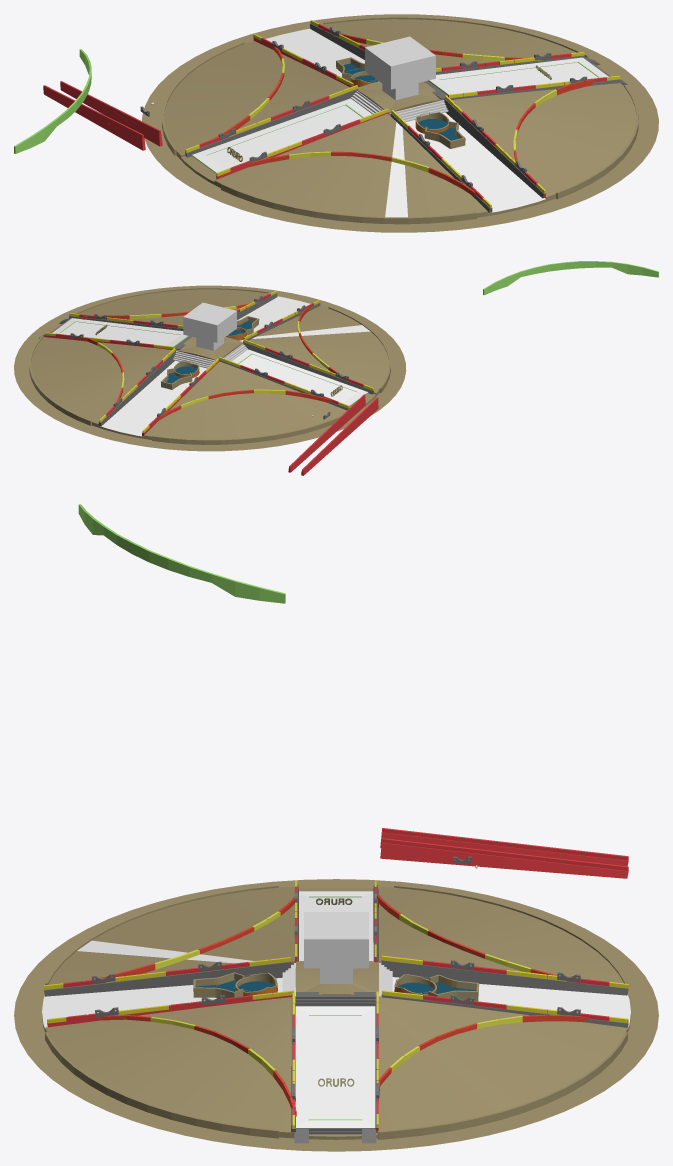
The model's file is plazaCasco.glb.
The picture shows the model from 3 angles, top to bottom: view 1: azimuth 30°, elevation 25°; view 2: azimuth 150°, elevation 25°; view 3: azimuth 270°, elevation 25°; orthographic projection. The views are drawn at different scales.
Parts seen in each view (by area): view 1: Cilindro, Cubo.018, Cubo.016, Cubo, Cubo.009, Cubo.002, Cubo.005, Cilindro.004, Cubo.006, Cilindro.002, Cubo.011, Cubo.007 (+11 smaller); view 2: Cilindro, Cubo.018, Cubo.016, Cubo, Cilindro.002, Cubo.007, Cubo.008, Cubo.006, Cubo.005, Cilindro.001, Cubo.009, Cubo.011 (+9 smaller); view 3: Cilindro, Cubo.016, Cubo, Cubo.006, Cubo.001, Cubo.010, Cilindro.002, Cubo.005, Cubo.008, Cubo.018, Cubo.002, Cilindro.006 (+5 smaller).
Part boxes in pixels (x1,y1,x2,y2): Cilindro: [142, 14, 658, 232]; Cubo.018: [192, 98, 371, 173]; Cubo.016: [428, 57, 608, 94]; Cubo: [365, 36, 435, 100]; Cubo.009: [185, 85, 357, 157]; Cubo.002: [444, 95, 545, 198]; Cubo.005: [43, 85, 145, 150]; Cilindro.004: [248, 151, 475, 197]; Cubo.006: [60, 81, 162, 146]; Cilindro.002: [14, 49, 91, 153]; Cubo.011: [448, 75, 620, 99]; Cubo.007: [216, 108, 388, 179]; Cilindro: [14, 285, 406, 451]; Cubo.018: [232, 349, 368, 406]; Cubo.016: [52, 318, 188, 346]; Cubo: [183, 302, 236, 350]; Cilindro.002: [483, 261, 658, 295]; Cubo.007: [243, 339, 374, 394]; Cubo.008: [98, 348, 175, 426]; Cubo.006: [288, 394, 365, 472]; Cubo.005: [301, 397, 378, 475]; Cilindro.001: [159, 389, 331, 420]; Cubo.009: [218, 356, 349, 410]; Cubo.011: [69, 313, 183, 330]; Cilindro: [14, 879, 658, 1151]; Cubo.016: [295, 1006, 375, 1127]; Cubo: [304, 912, 368, 983]; Cubo.006: [380, 838, 628, 878]; Cubo.001: [381, 955, 628, 995]; Cubo.010: [44, 957, 290, 996]; Cilindro.002: [78, 504, 285, 603]; Cubo.005: [380, 828, 628, 866]; Cubo.008: [381, 990, 628, 1029]; Cubo.018: [299, 891, 373, 961]; Cubo.002: [47, 990, 293, 1027]; Cilindro.006: [378, 1014, 591, 1097].
Size of the model in its own units: 179 by 43.29 by 112.
